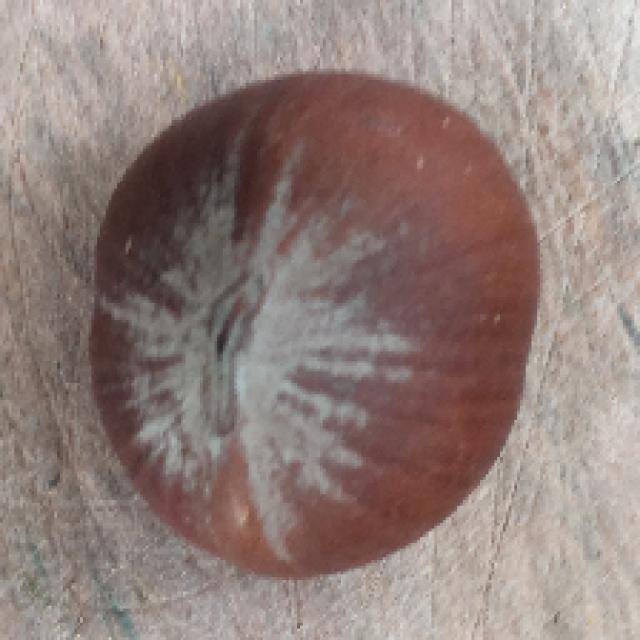qualityHazelnut: (86, 73, 538, 575)
